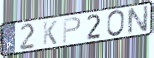2: (19, 22, 37, 52), (87, 13, 102, 41)
K: (42, 20, 58, 47)
N: (126, 4, 150, 37)
O: (106, 9, 126, 38)
P: (62, 16, 82, 45)
